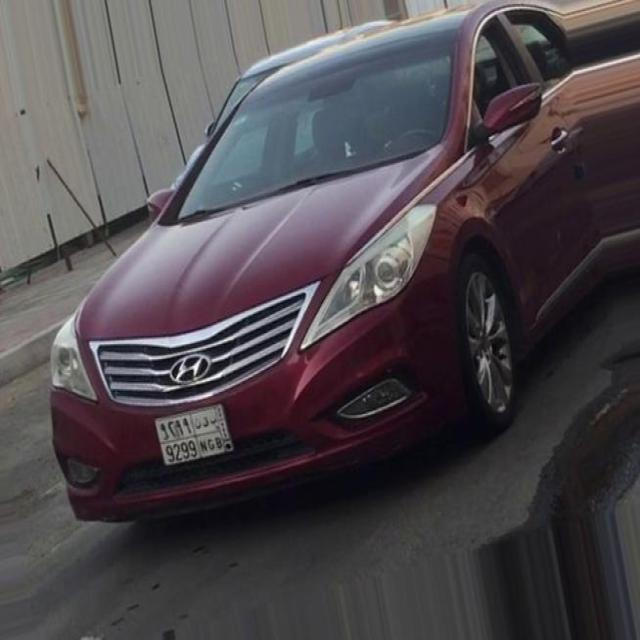Car-plate: (147, 392, 247, 479)
